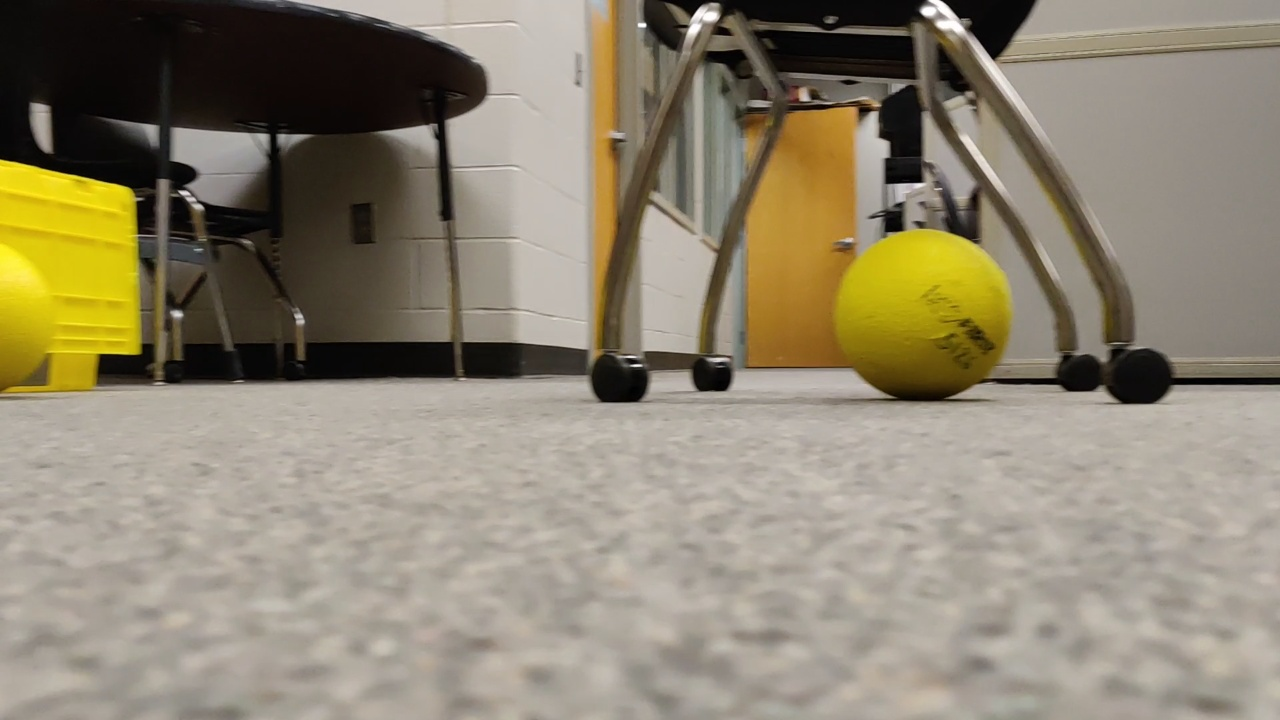Ball: (839, 232, 1002, 393), (1, 241, 55, 387)
